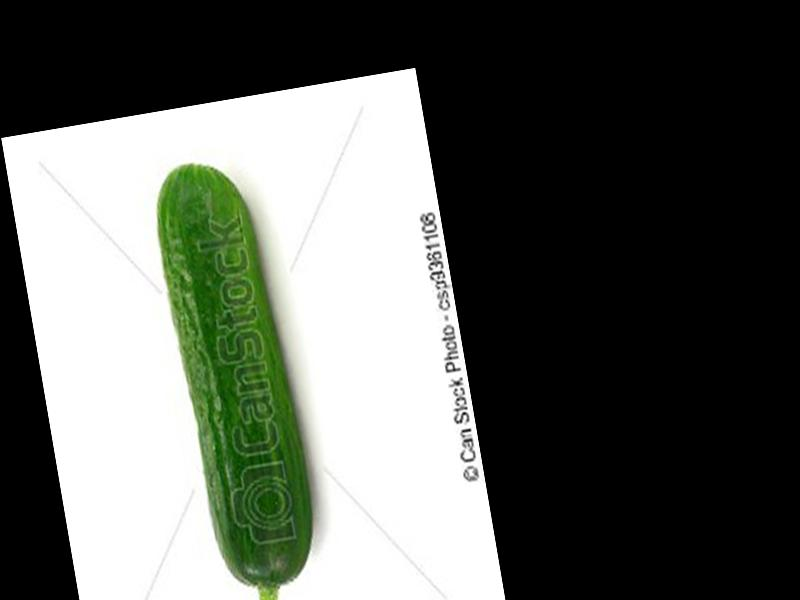Cucumber: (147, 150, 331, 600)
